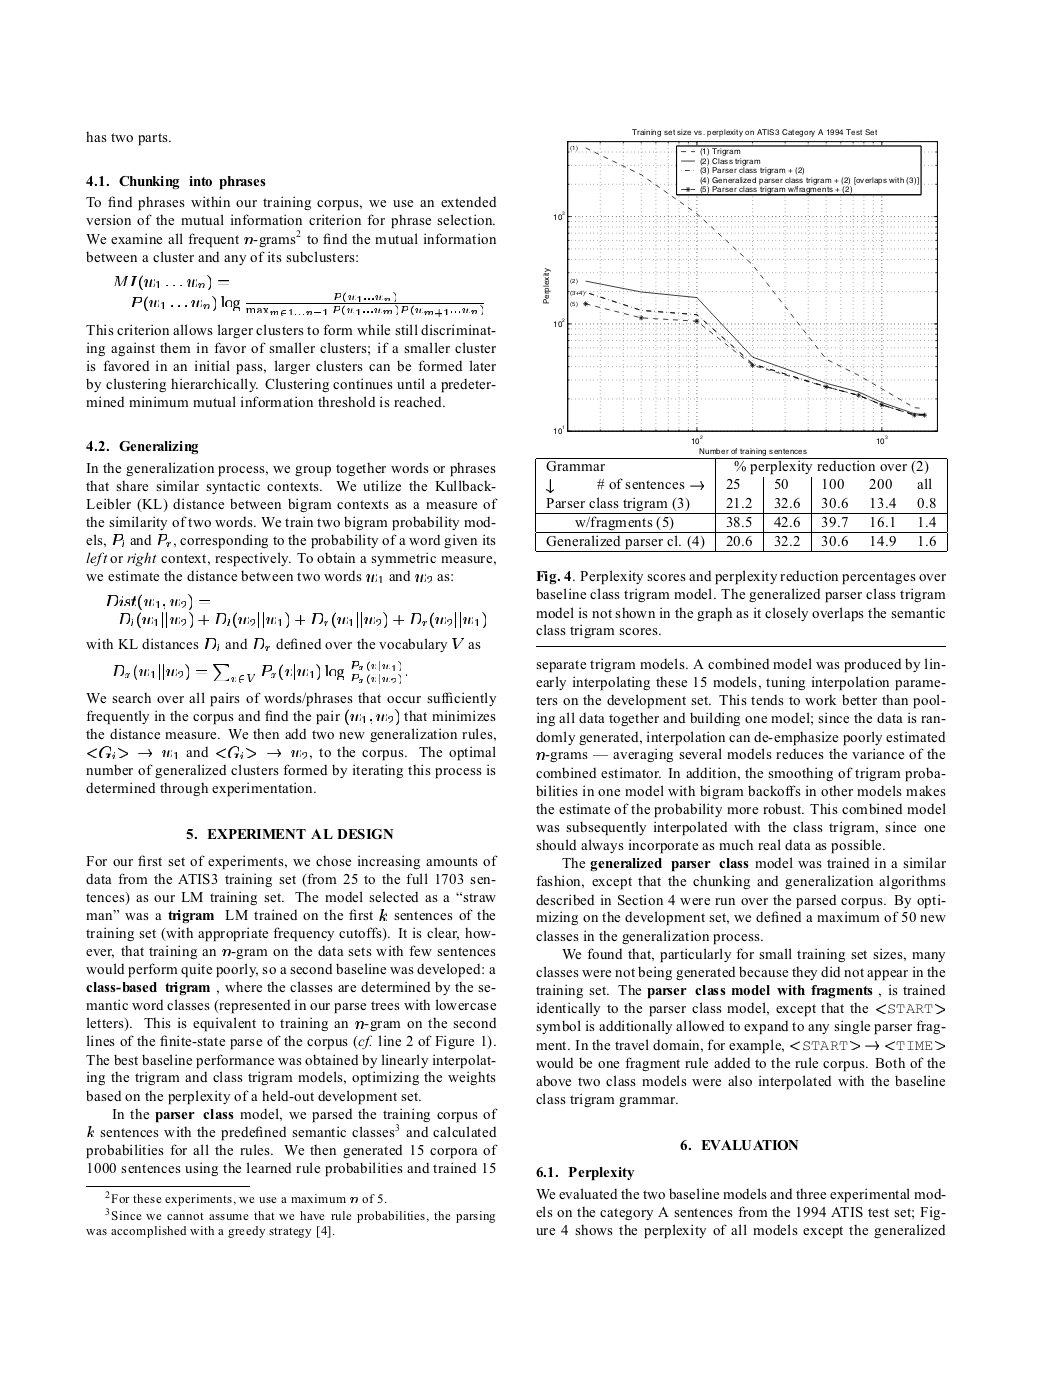Table: (535, 447, 947, 552)
figure: (543, 140, 937, 445)
formula: (114, 274, 483, 317), (106, 593, 485, 629), (113, 660, 406, 684)
